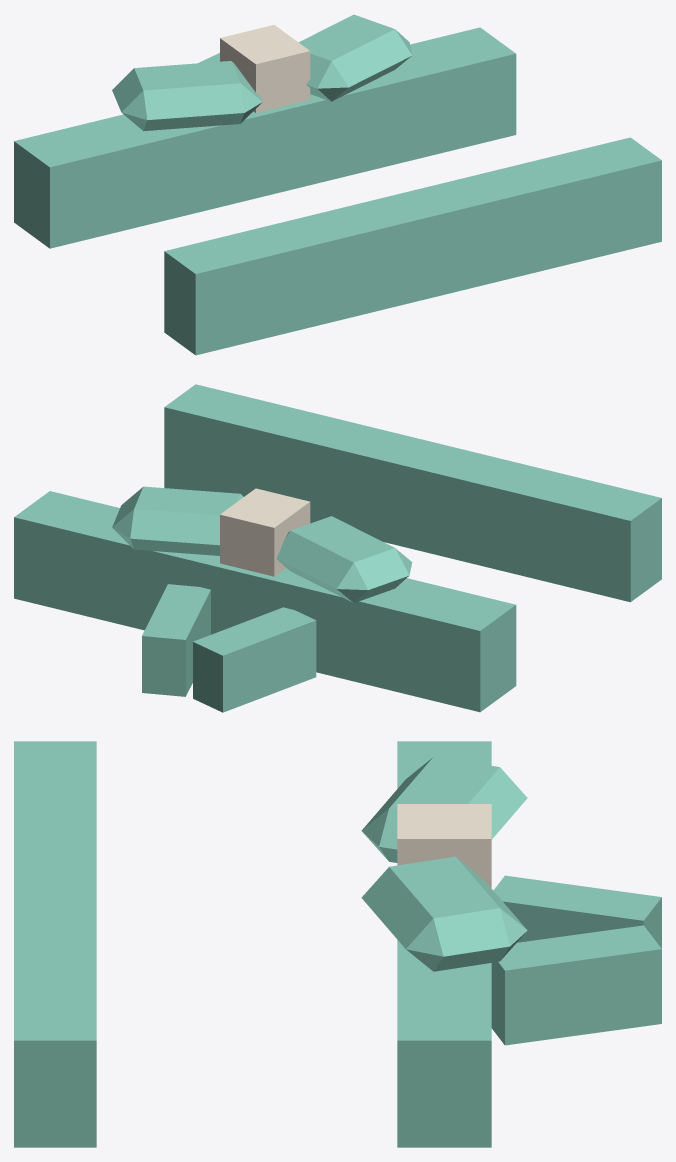
Rendered from CatCafe_Accessory_Apron_Walk.glb.
3 views of the same model, one above another, from view 1: azimuth 30°, elevation 25°; view 2: azimuth 150°, elevation 25°; view 3: azimuth 270°, elevation 25° (orthographic). The views are drawn at different scales.
Parts seen in each view (by area): view 1: CatCafe_Accessory_Apron_Walk; view 2: CatCafe_Accessory_Apron_Walk; view 3: CatCafe_Accessory_Apron_Walk.
Part boxes in pixels (bbox=[...]): CatCafe_Accessory_Apron_Walk: bbox=[14, 14, 661, 355]; CatCafe_Accessory_Apron_Walk: bbox=[14, 384, 661, 712]; CatCafe_Accessory_Apron_Walk: bbox=[14, 741, 661, 1147].
Size of the model in its own units: 0.6 by 0.165 by 0.5493.
1 material, 1 textured.
